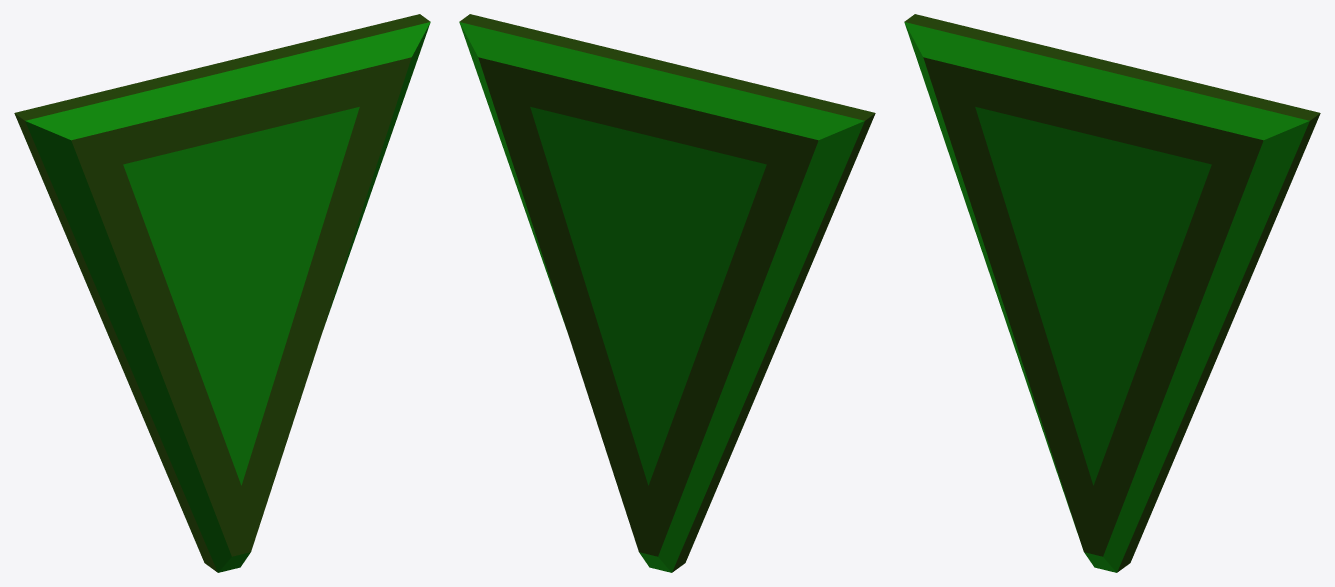
The model's file is ChestV2_Lock.fbx.
3 renders of one model, left to right at view 1: azimuth 30°, elevation 25°; view 2: azimuth 150°, elevation 25°; view 3: azimuth 330°, elevation 25°, orthographic.
Visible parts, largest first — view 1: ChestV2_Lock; view 2: ChestV2_Lock; view 3: ChestV2_Lock.
Part boxes in pixels (x1=…): ChestV2_Lock: x1=14, y1=14, x2=430, y2=572; ChestV2_Lock: x1=459, y1=14, x2=875, y2=572; ChestV2_Lock: x1=904, y1=14, x2=1320, y2=572.
Bounding box in the file's own units: 5.99 × 7.02 × 0.9721.
